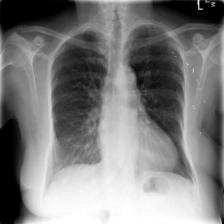normal: (45, 25, 196, 189)
